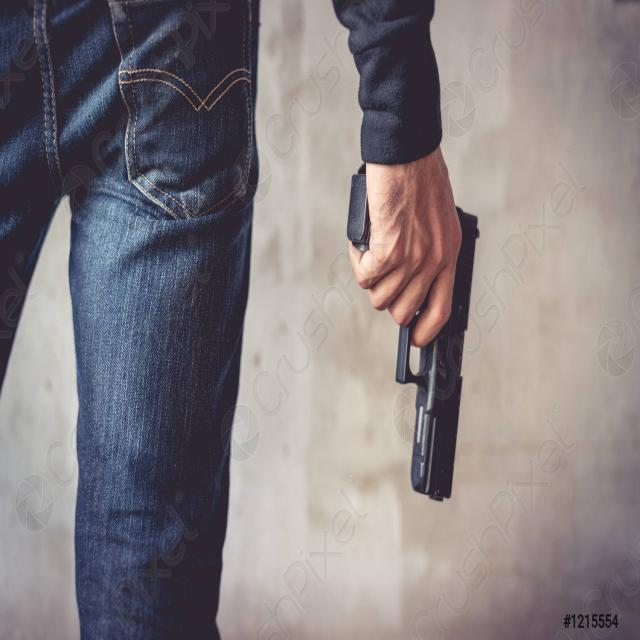HandGun: (396, 207, 480, 503)
